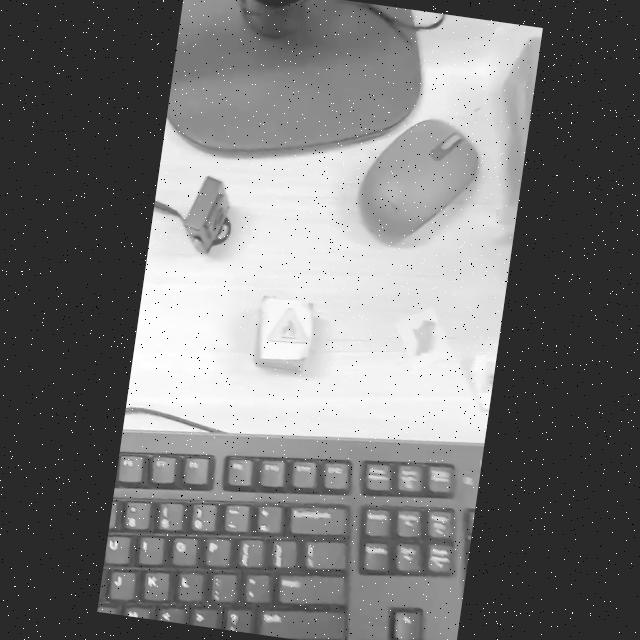Fire: (269, 308, 307, 343)
